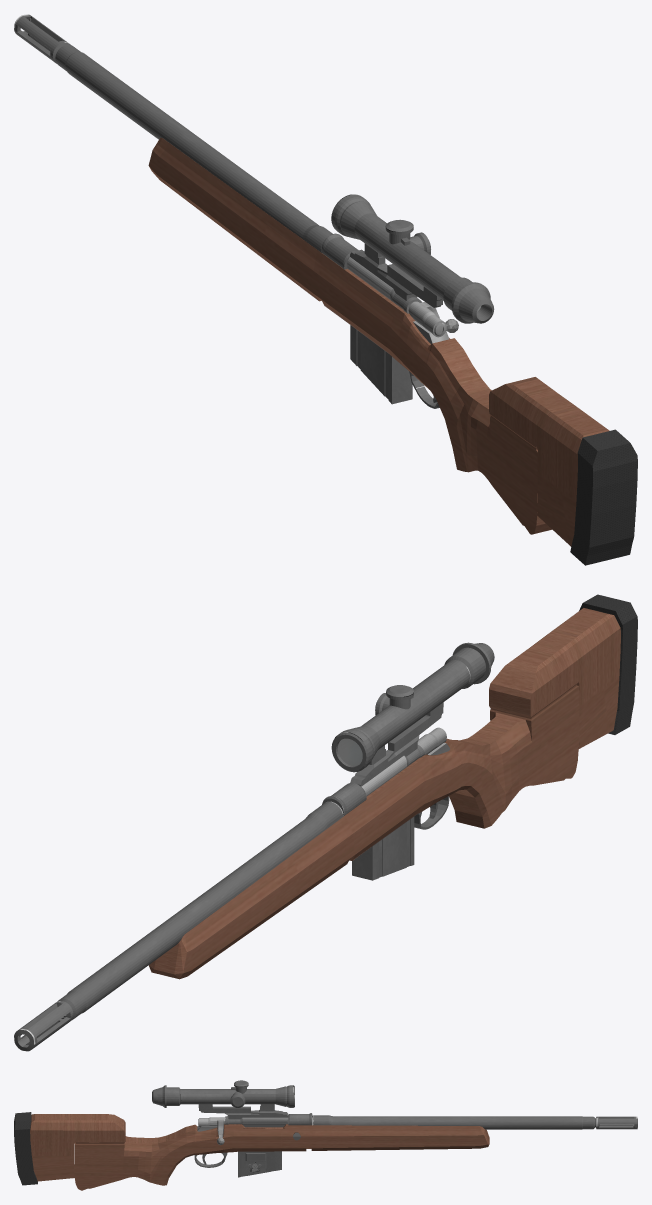
The picture shows the model from 3 angles, top to bottom: view 1: azimuth 30°, elevation 25°; view 2: azimuth 150°, elevation 25°; view 3: azimuth 270°, elevation 25°; orthographic projection. The views are drawn at different scales.
Parts seen in each view (by area): view 1: Cube.007; view 2: Cube.007; view 3: Cube.007.
Boxes of the visible parts, x1,y1,x2,y2 form: Cube.007: (14,14,637,565); Cube.007: (14,594,637,1051); Cube.007: (14,1080,637,1190).
Bounding box in the file's own units: 0.5651 × 1.73 × 9.53.
Materials: 6 (6 with a texture image).
